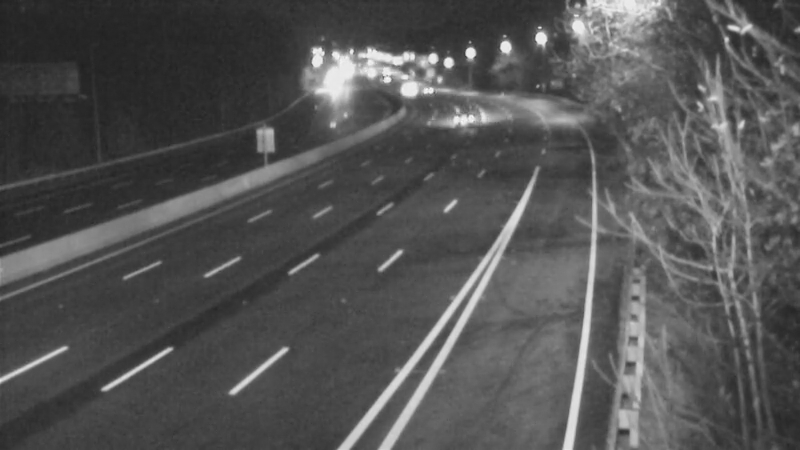vehicle: (381, 59, 431, 109), (405, 67, 455, 117), (435, 87, 485, 137)
